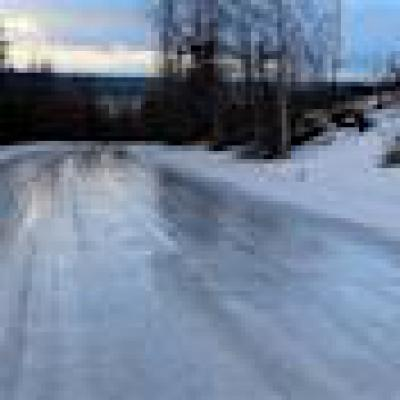iced-road: (0, 150, 400, 400)
